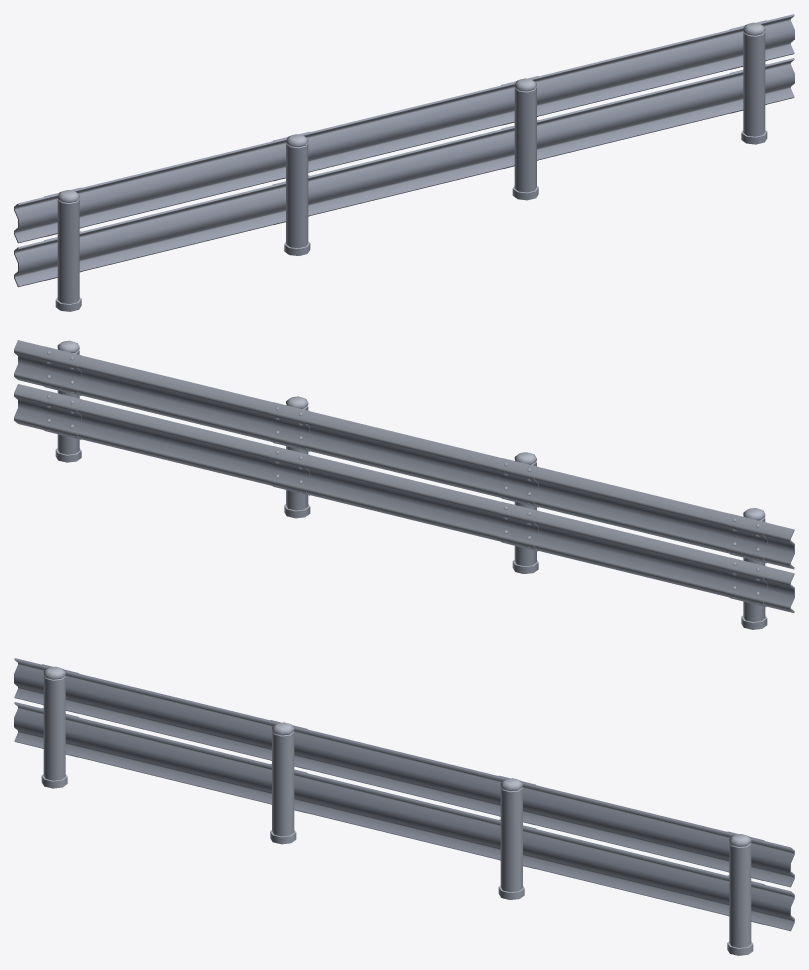
Rendered from squidgame_props_guardrail.fbx.
3 renders of one model, top to bottom at view 1: azimuth 30°, elevation 25°; view 2: azimuth 150°, elevation 25°; view 3: azimuth 330°, elevation 25°, orthographic.
Visible parts, largest first — view 1: squidgame_props_guardrail; view 2: squidgame_props_guardrail; view 3: squidgame_props_guardrail.
Part boxes in pixels (<box>): squidgame_props_guardrail: <box>14,14,794,311</box>; squidgame_props_guardrail: <box>14,340,794,629</box>; squidgame_props_guardrail: <box>14,658,794,955</box>.
Size of the model in its own units: 4.71 by 0.6577 by 0.1654.
